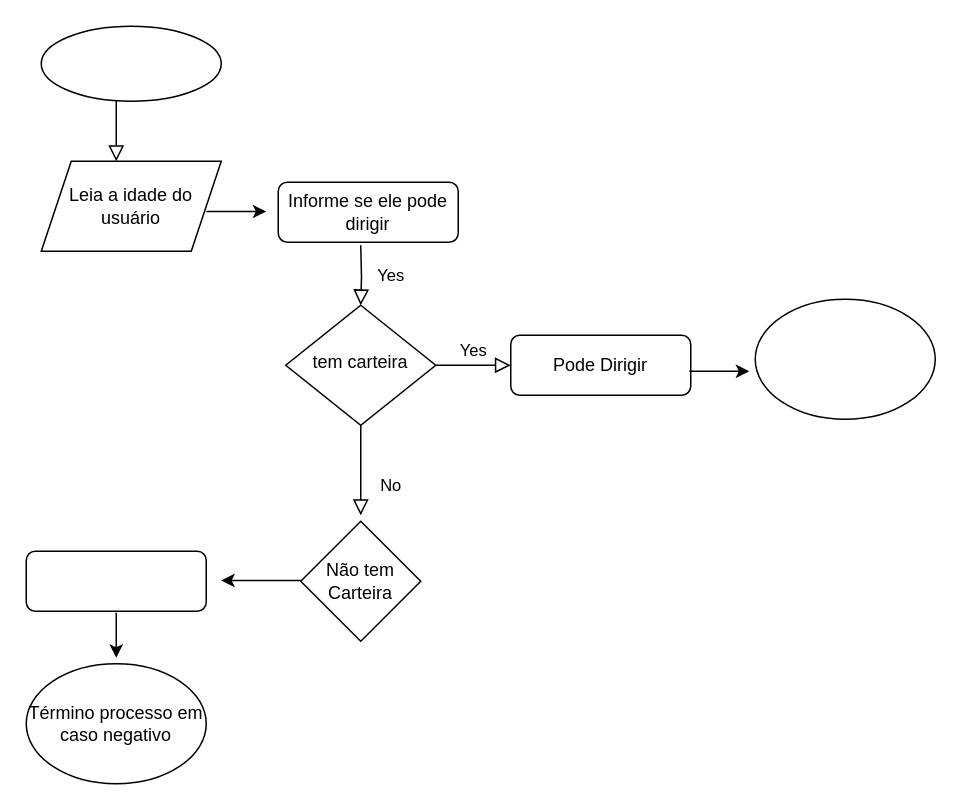
This 962x810 diagram has some shape labels left out. The shapes that lost their labels are listed below. From the top down, each one's centre as x and y in pixels, then its label:
At point (130, 63): "Inicio".
At point (844, 358): "Término processo em caso positivo".
At point (115, 580): "Não pode dirigir".
